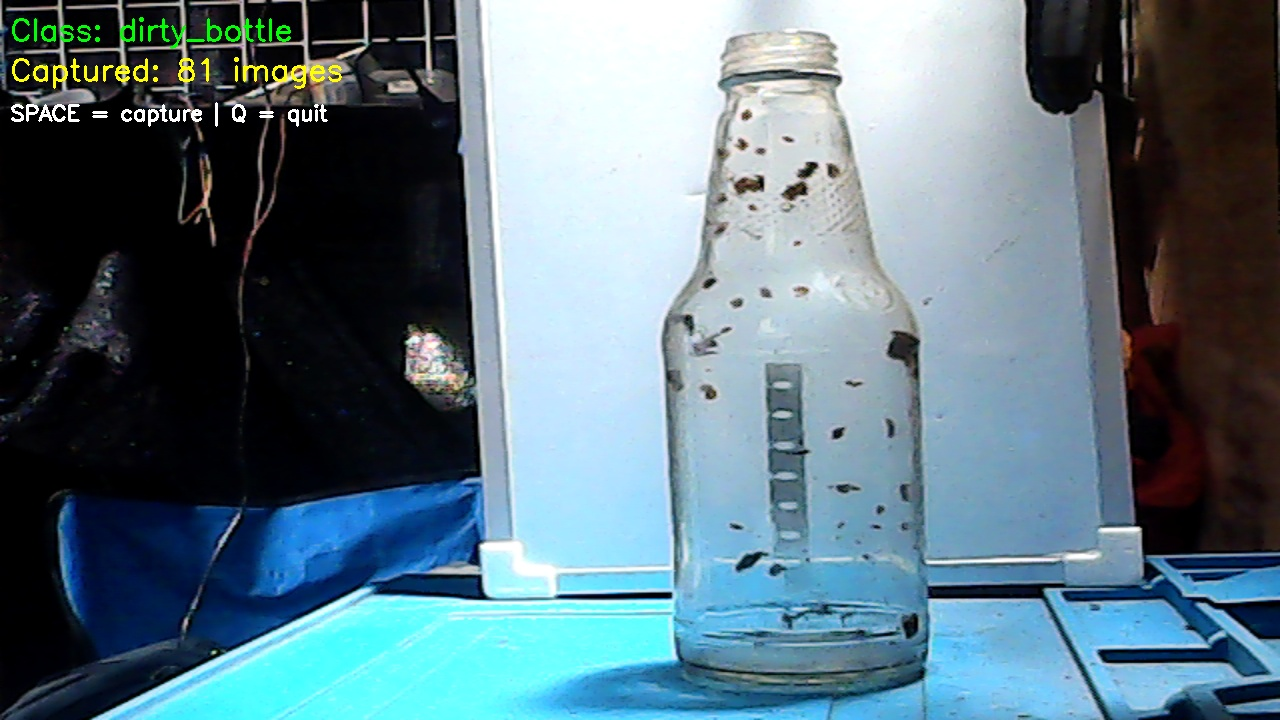dirty_bottle: (677, 32, 932, 699)
